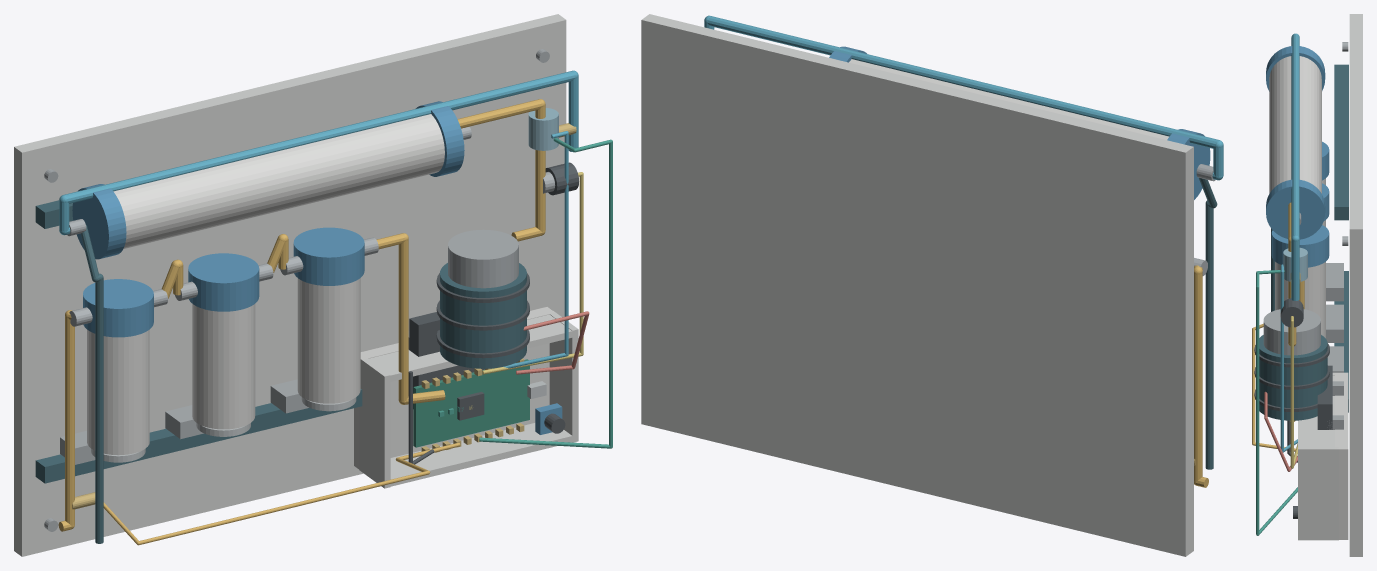
File: clearwell_ro_concept.glb
3 views of the same model, side by side, from view 1: azimuth 30°, elevation 25°; view 2: azimuth 150°, elevation 25°; view 3: azimuth 270°, elevation 25° (orthographic). The views are drawn at different scales.
Parts seen in each view (by area): view 1: 01_backplate_620x440mm, 04_ro_membrane_housing, filter_2_housing, filter_3_housing, filter_1_housing, 05_pump_motor, 11_geeky_board_placeholder_PCB, clean_water_blue_3, lower_cartridge_rail, 05_pump_head, enclosure_edge_-204, filter_2_head (+21 smaller); view 2: 01_backplate_620x440mm, clean_water_blue_3, waste_water_dark_3, raw_inlet_orange_2, 04_ro_membrane_housing, membrane_cap_-260; view 3: 01_backplate_620x440mm, 04_ro_membrane_housing, enclosure_side_284, 05_pump_motor, membrane_cap_125, upper_membrane_rail, 05_pump_head, clean_water_blue_3, 10_electronics_enclosure_base, filter_3_housing, filter_3_head, wire_output_tds_green_3 (+24 smaller).
Part boxes in pixels (x1,y1,x2,y2): 01_backplate_620x440mm: (14, 14, 566, 556); 04_ro_membrane_housing: (113, 114, 444, 248); filter_2_housing: (192, 304, 255, 429); filter_3_housing: (297, 278, 360, 403); filter_1_housing: (87, 329, 149, 455); 05_pump_motor: (440, 263, 526, 368); 11_geeky_board_placeholder_PCB: (413, 359, 529, 447); clean_water_blue_3: (64, 71, 575, 203); lower_cartridge_rail: (35, 389, 362, 483); 05_pump_head: (448, 229, 518, 288); enclosure_edge_-204: (385, 423, 577, 486); filter_2_head: (188, 253, 259, 311); 01_backplate_620x440mm: (641, 14, 1193, 556); clean_water_blue_3: (707, 16, 1218, 148); waste_water_dark_3: (1205, 204, 1213, 469); raw_inlet_orange_2: (1194, 272, 1202, 482); 04_ro_membrane_housing: (849, 59, 1169, 139); membrane_cap_-260: (1167, 129, 1210, 199); 01_backplate_620x440mm: (1349, 14, 1362, 556); 04_ro_membrane_housing: (1269, 56, 1321, 193); enclosure_side_284: (1298, 447, 1338, 540); 05_pump_motor: (1259, 335, 1327, 420); membrane_cap_125: (1266, 179, 1325, 239); upper_membrane_rail: (1334, 64, 1348, 220); 05_pump_head: (1263, 309, 1320, 355); clean_water_blue_3: (1291, 34, 1299, 238); 10_electronics_enclosure_base: (1335, 372, 1348, 539); filter_3_housing: (1275, 262, 1325, 338); filter_3_head: (1271, 225, 1329, 267); wire_output_tds_green_3: (1256, 287, 1259, 534).
Size of the model in its own units: 620 by 440 by 135.
